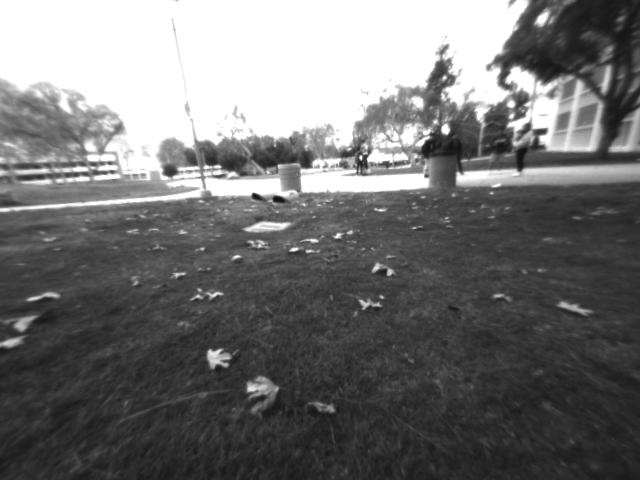trashcan: (424, 151, 458, 196), (277, 162, 307, 195)
